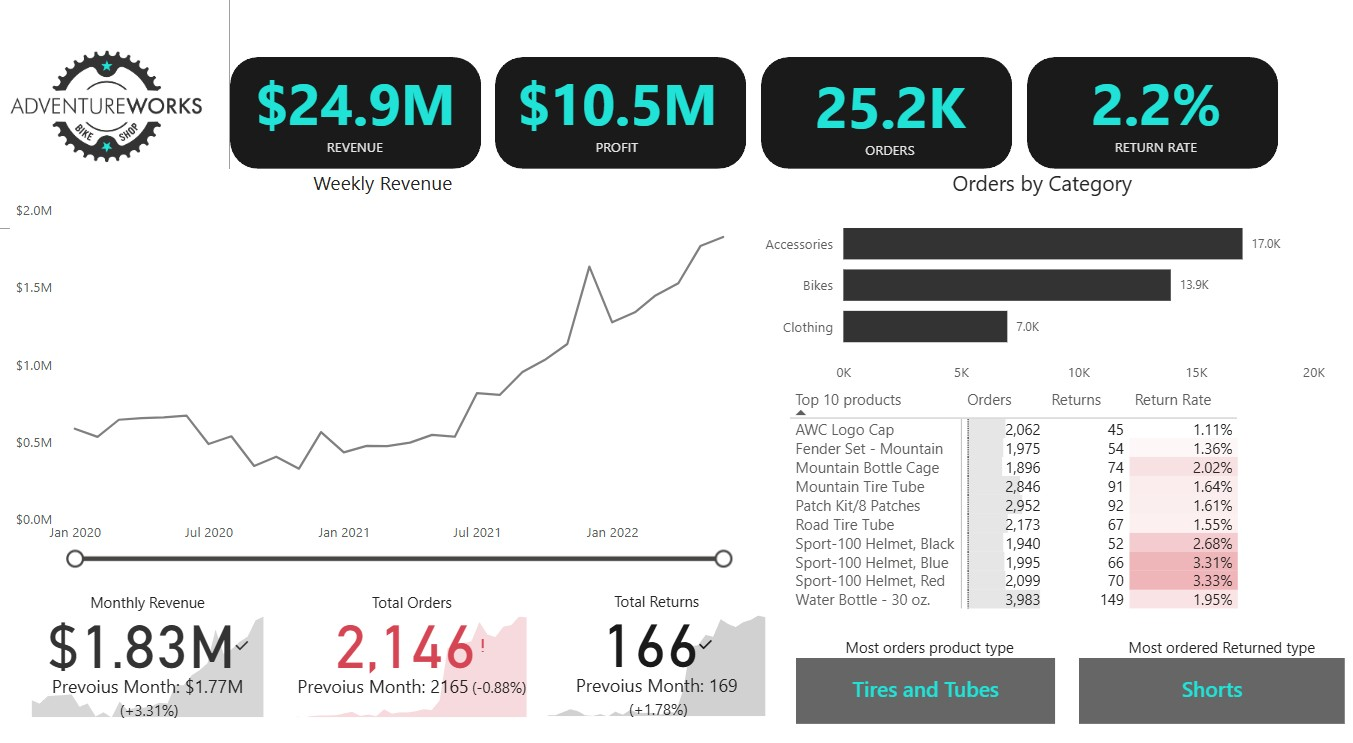

The dashboard page shown, as its layout file describes it:
{"tool":"powerbi","page":{"name":"Executive Dashboard","canvas":[1280,720],"ordinal":0},"visuals":[{"type":"image","title":"AW Logo","box":[36.7,0,220.1,220.1],"z":0},{"type":"card","fields":{"Values":["Measure Table.Return Rate"]},"box":[971,64.8,231.1,99],"z":0,"group":"g3"},{"type":"shape","box":[256.8,66.3,225,100.3],"z":0,"group":"g2"},{"type":"shape","title":"Left Nav Background","box":[0,0,45.2,720.2],"z":1000},{"type":"shape","box":[494,66.3,225,100.3],"z":1000,"group":"g2"},{"type":"card","fields":{"Values":["Measure Table.Total Orders"]},"box":[732.5,67.2,231.1,99],"z":1000,"group":"g3"},{"type":"group","id":"g1","title":"KPIs","box":[253.4,64.8,948.7,101.7],"z":2000},{"type":"card","fields":{"Values":["Measure Table.Total Profit"]},"box":[487.9,64.8,231.1,99],"z":2000,"group":"g3"},{"type":"shape","box":[732.5,66.3,225,100.3],"z":2000,"group":"g2"},{"type":"card","fields":{"Values":["Measure Table.Total Revenue"]},"box":[253.4,64.8,231.1,99],"z":3000,"group":"g3"},{"type":"shape","box":[970.9,66.3,225,100.3],"z":3000,"group":"g2"},{"type":"lineChart","title":"Weekly Revenue","fields":{"Y":["Measure Table.Total Revenue"],"Category":["Calendar Lookup.Date Hierarchy.Year","Calendar Lookup.Date Hierarchy.Start of Month","Calendar Lookup.Date Hierarchy.Start of Week","Calendar Lookup.Date Hierarchy.Date"]},"box":[59.9,166.3,667.7,359.5],"z":3000},{"type":"group","id":"g2","title":"KPI Background","box":[256.8,66.3,939.1,100.3],"z":3001,"group":"g1"},{"type":"group","id":"g3","title":"KPI Visual","box":[253.4,64.8,948.7,101.5],"z":4000,"group":"g1"},{"type":"kpi","title":"Monthly Revenue","fields":{"Indicator":["Measure Table.Total Revenue"],"TrendLine":["Calendar Lookup.Start of Month"],"Goal":["Measure Table.Previous Month Revenue"]},"box":[74.6,545.4,217.7,117.4],"z":4000},{"type":"kpi","title":"Total Orders","fields":{"TrendLine":["Calendar Lookup.Start of Month"],"Indicator":["Measure Table.Total Orders"],"Goal":["Measure Table.Previous Month Orders"]},"box":[311.8,545.4,216.4,117.4],"z":5000},{"type":"kpi","title":"Total Returns","fields":{"TrendLine":["Calendar Lookup.Start of Month"],"Indicator":["Measure Table.Total Returns"],"Goal":["Measure Table.Previous Month Returns"]},"box":[536.8,544.2,205.4,117.4],"z":6000},{"type":"clusteredBarChart","title":"Orders by Category","fields":{"Category":["Product Categories Lookup.CategoryName"],"Y":["Measure Table.Total Orders"]},"box":[726.4,166.3,516,200.5],"z":7000},{"type":"pivotTable","fields":{"Rows":["Product Lookup.ProductName"],"Values":["Measure Table.Total Orders","Measure Table.Total Returns","Measure Table.Return Rate"]},"box":[753.3,359.5,421.9,221.3],"z":8000},{"type":"card","fields":{"Values":["Min(Product Subcategories Lookup.SubcategoryName)"]},"box":[764.3,604.1,232.3,58.7],"z":9000},{"type":"textbox","box":[803.4,580.8,167.5,42.8],"z":10000},{"type":"card","fields":{"Values":["Min(Product Subcategories Lookup.SubcategoryName)"]},"box":[1017.4,604.1,238.5,58.7],"z":11000},{"type":"textbox","box":[1056.5,580.8,185.9,42.8],"z":12000}]}

Visuals, with their boxes in screenshot pixels (x1, y1, x2, y2), scaled from the page's 1280x720 canvas onto the 1353x743 screenshot:
"AW Logo" image: [39,0,271,227]
card - Measure Table.Return Rate: [1026,67,1271,169]
shape: [271,68,509,172]
"Left Nav Background" shape: [0,0,48,742]
shape: [522,68,760,172]
card - Measure Table.Total Orders: [774,69,1019,172]
"KPIs" group: [268,67,1271,172]
card - Measure Table.Total Profit: [516,67,760,169]
shape: [774,68,1012,172]
card - Measure Table.Total Revenue: [268,67,512,169]
shape: [1026,68,1264,172]
"Weekly Revenue" lineChart: [63,172,769,543]
"KPI Background" group: [271,68,1264,172]
"KPI Visual" group: [268,67,1271,172]
"Monthly Revenue" kpi: [79,563,309,684]
"Total Orders" kpi: [330,563,558,684]
"Total Returns" kpi: [567,562,785,683]
"Orders by Category" clusteredBarChart: [768,172,1313,379]
pivotTable - Product Lookup.ProductName x Measure Table.Total Orders: [796,371,1242,599]
card - Min(Product Subcategories Lookup.SubcategoryName): [808,623,1053,684]
textbox: [849,599,1026,644]
card - Min(Product Subcategories Lookup.SubcategoryName): [1075,623,1328,684]
textbox: [1117,599,1313,644]
